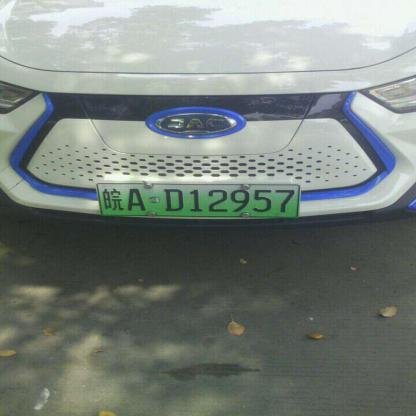lp: (96, 183, 299, 217)
